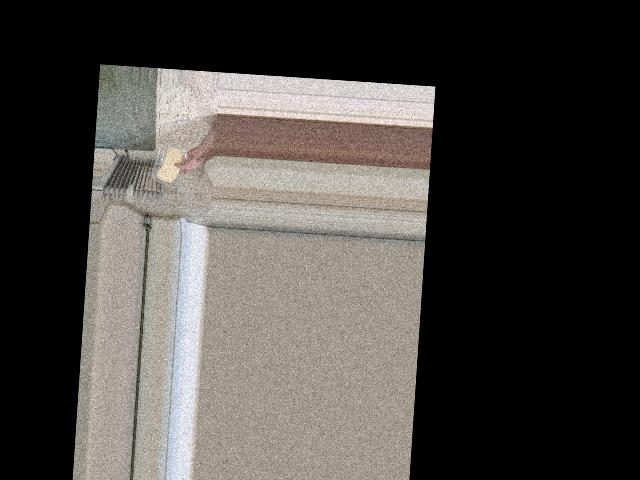cheese: (155, 144, 186, 187)
